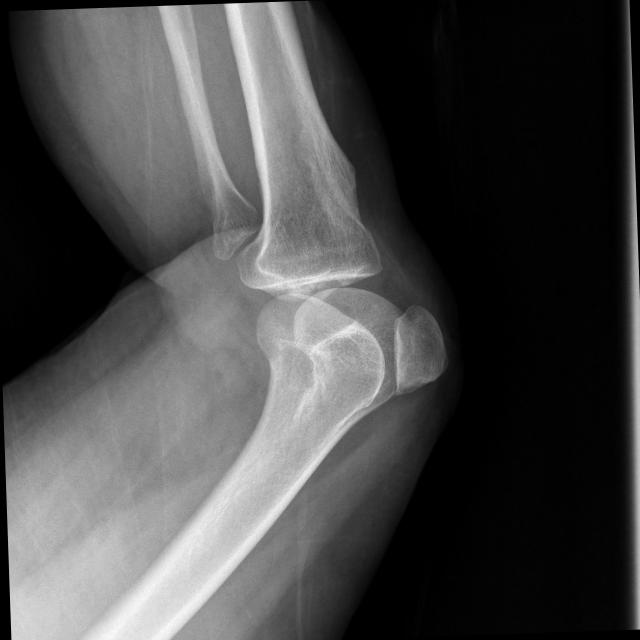Knee: (232, 210, 448, 413)
